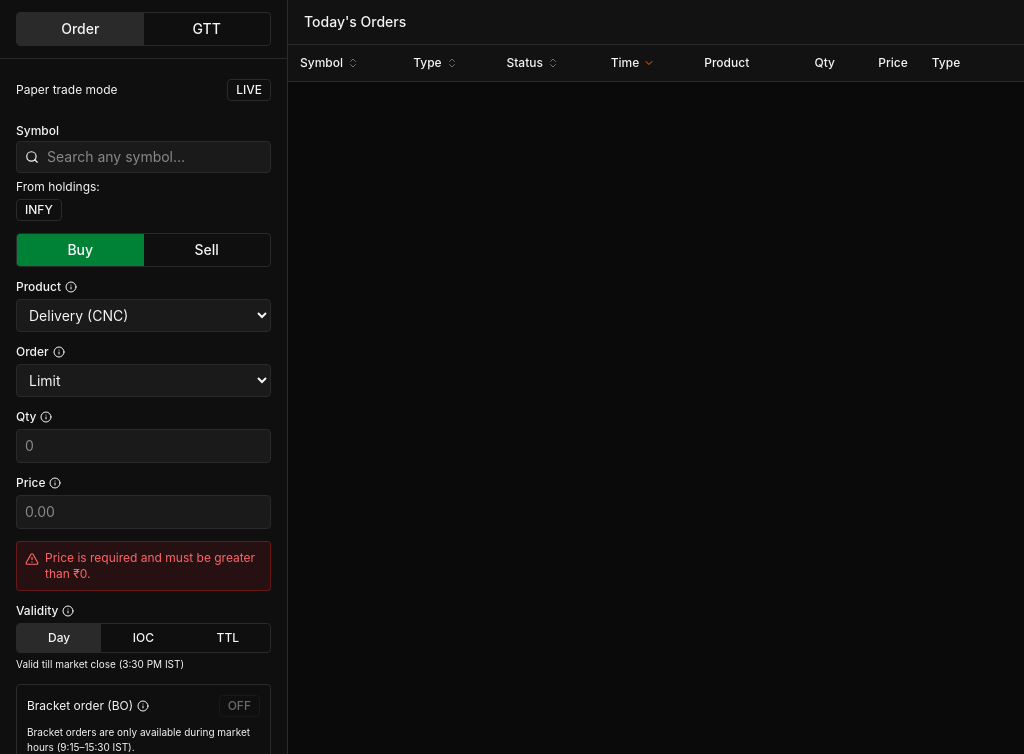
Test: Orders — GTT: two-leg GTT form › switching to GTT tab shows GTT form
Click the button "GTT".
click(207, 29)  # box [144,13,270,45]
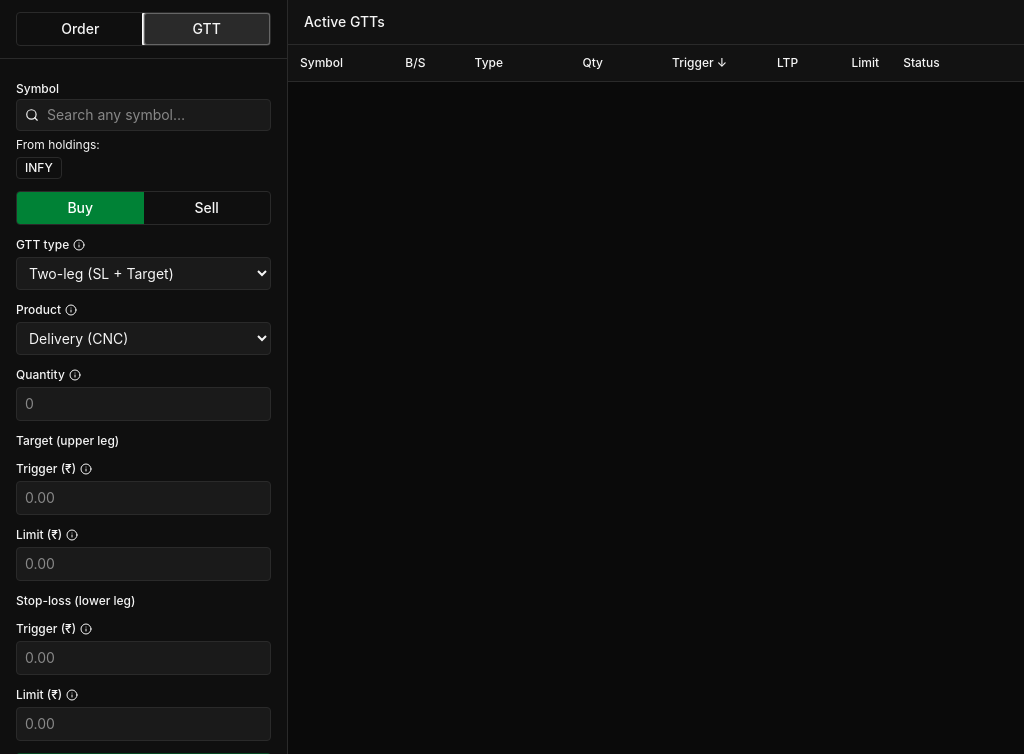
Expected: the text "GTT type" is shown, [16,237,69,253]
